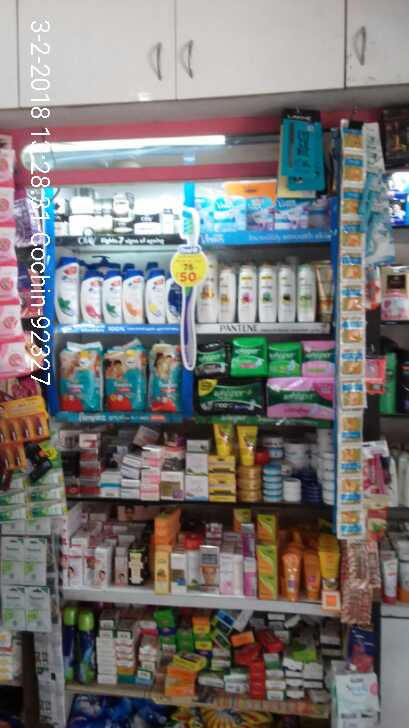venus: (274, 198, 308, 226), (214, 199, 246, 228), (246, 198, 274, 228), (192, 199, 214, 230), (308, 198, 330, 226)
